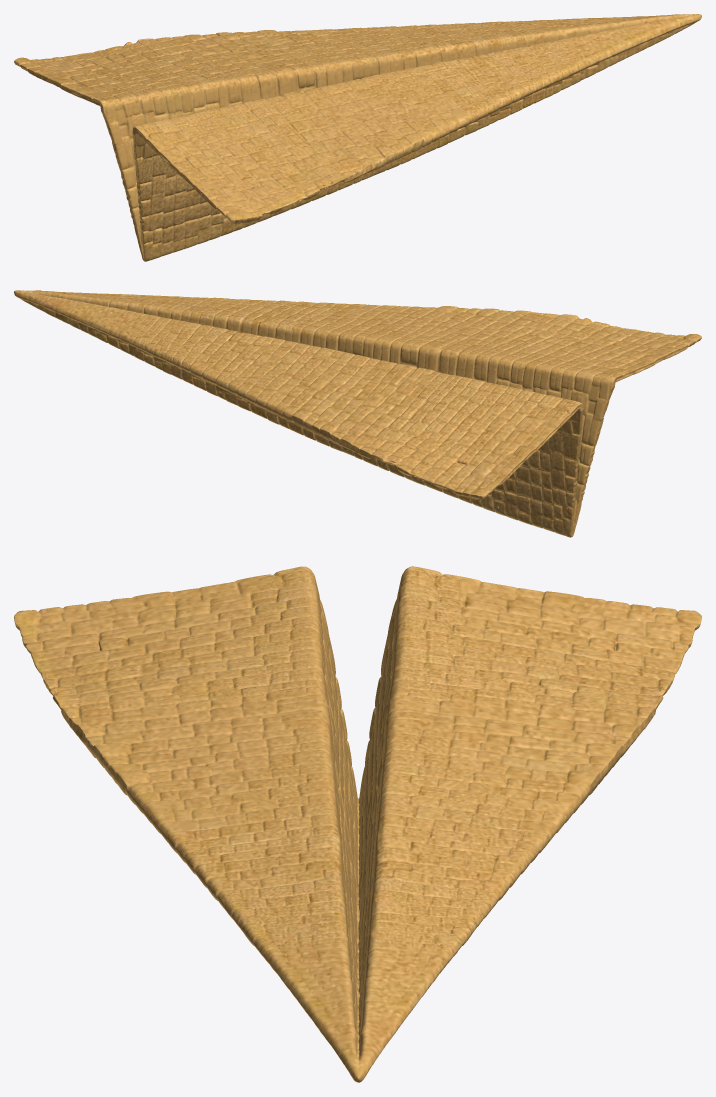
File: paper_plane-optimized.glb
3 views of the same model, one above another, from view 1: azimuth 30°, elevation 25°; view 2: azimuth 150°, elevation 25°; view 3: azimuth 270°, elevation 25° (orthographic). The views are drawn at different scales.
Visible parts, largest first — view 1: tripo_node_a9fe4b74-db49-4b20-857e-0c956815d7d5; view 2: tripo_node_a9fe4b74-db49-4b20-857e-0c956815d7d5; view 3: tripo_node_a9fe4b74-db49-4b20-857e-0c956815d7d5.
Boxes of the visible parts, x1=… form: tripo_node_a9fe4b74-db49-4b20-857e-0c956815d7d5: x1=14, y1=14, x2=701, y2=261; tripo_node_a9fe4b74-db49-4b20-857e-0c956815d7d5: x1=14, y1=290, x2=701, y2=537; tripo_node_a9fe4b74-db49-4b20-857e-0c956815d7d5: x1=14, y1=566, x2=701, y2=1082.
Size of the model in its own units: 0.981 by 0.2466 by 0.6411.
1 material, 1 textured.
